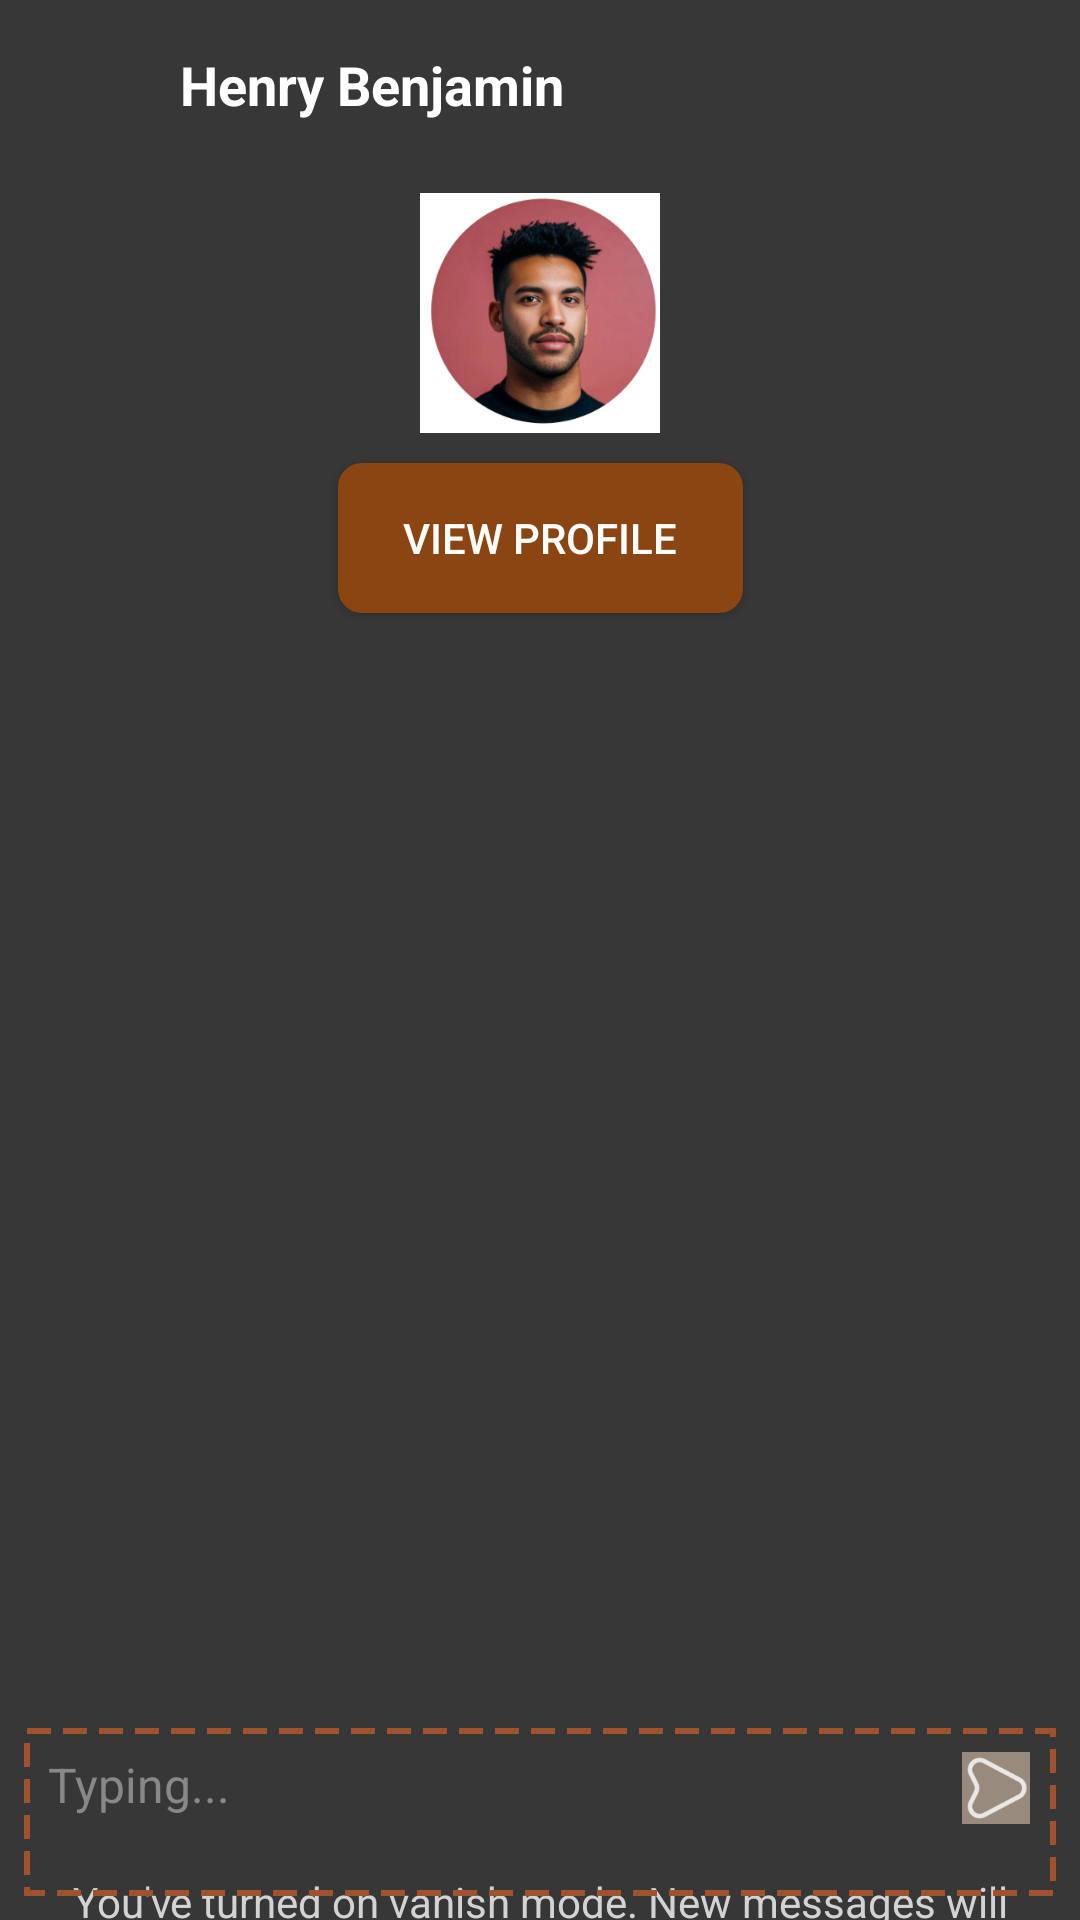

Named icons in this screenshot (1080 x 1920) and their centers, (x,y):
send chat: (996,1788)
